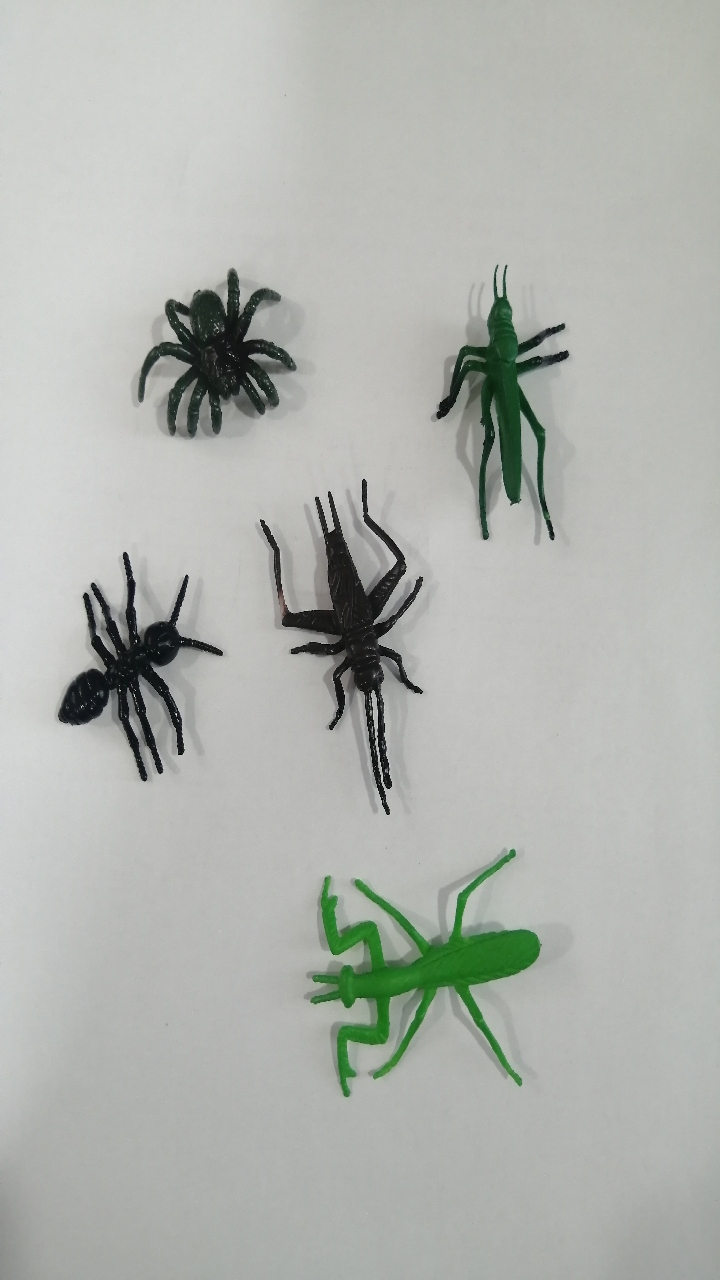intruso: (234, 465, 454, 842), (278, 826, 557, 1103), (400, 243, 603, 571), (46, 522, 237, 815), (111, 240, 315, 465)
